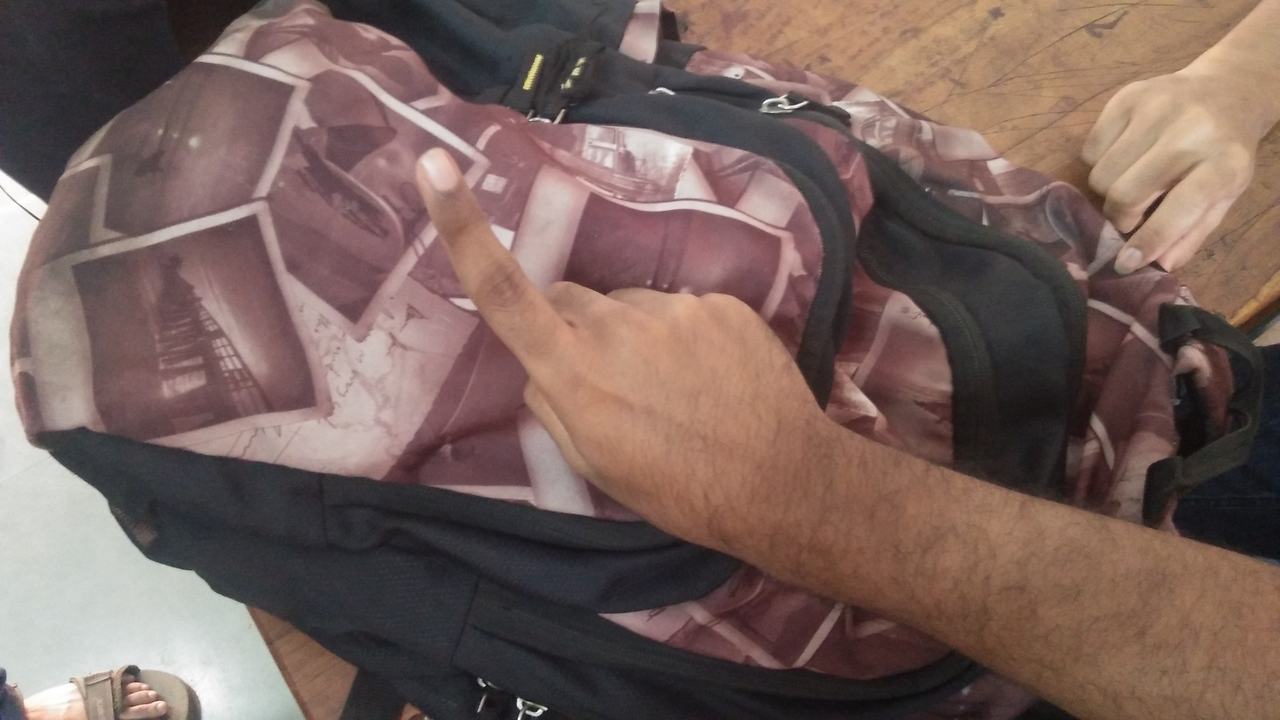fingertip: (400, 140, 472, 206)
